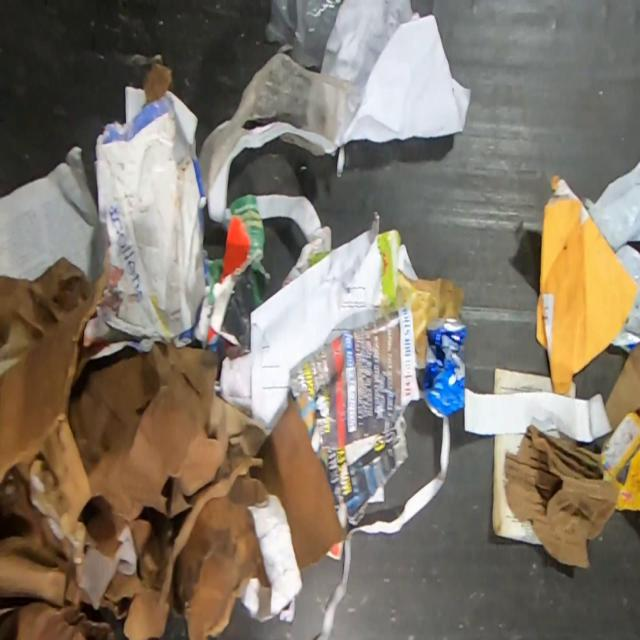cardboard: (0, 257, 270, 639), (94, 64, 208, 346), (256, 391, 346, 571)
metal: (422, 317, 468, 419)
soft_plastic: (200, 0, 413, 191), (371, 211, 466, 364), (192, 215, 262, 351), (580, 160, 640, 254), (267, 0, 342, 68), (601, 411, 640, 512)
